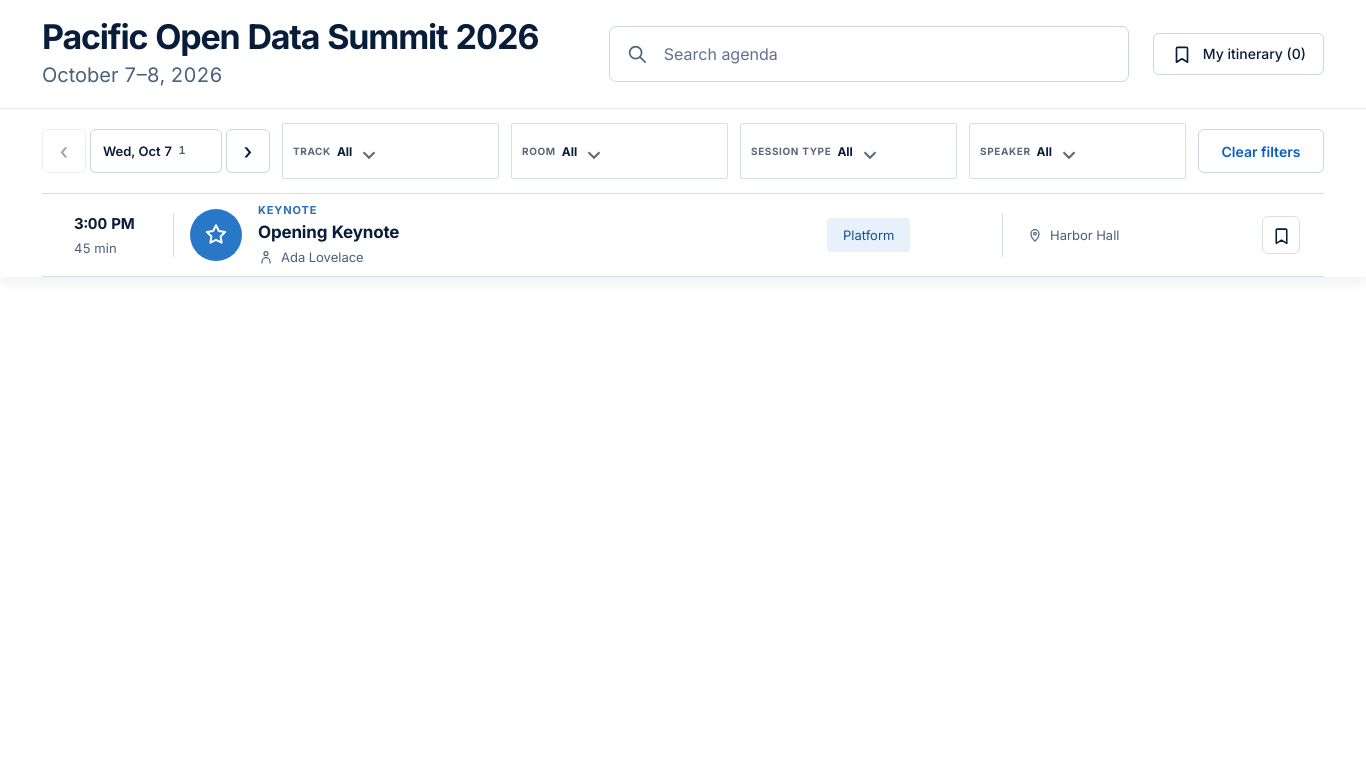
Test: PublicProgramRenderer › opens agenda session details and reserves layout space
Click the button named "Open Opening Keynote session details".
click(683, 235)  # box [42,194,1324,276]
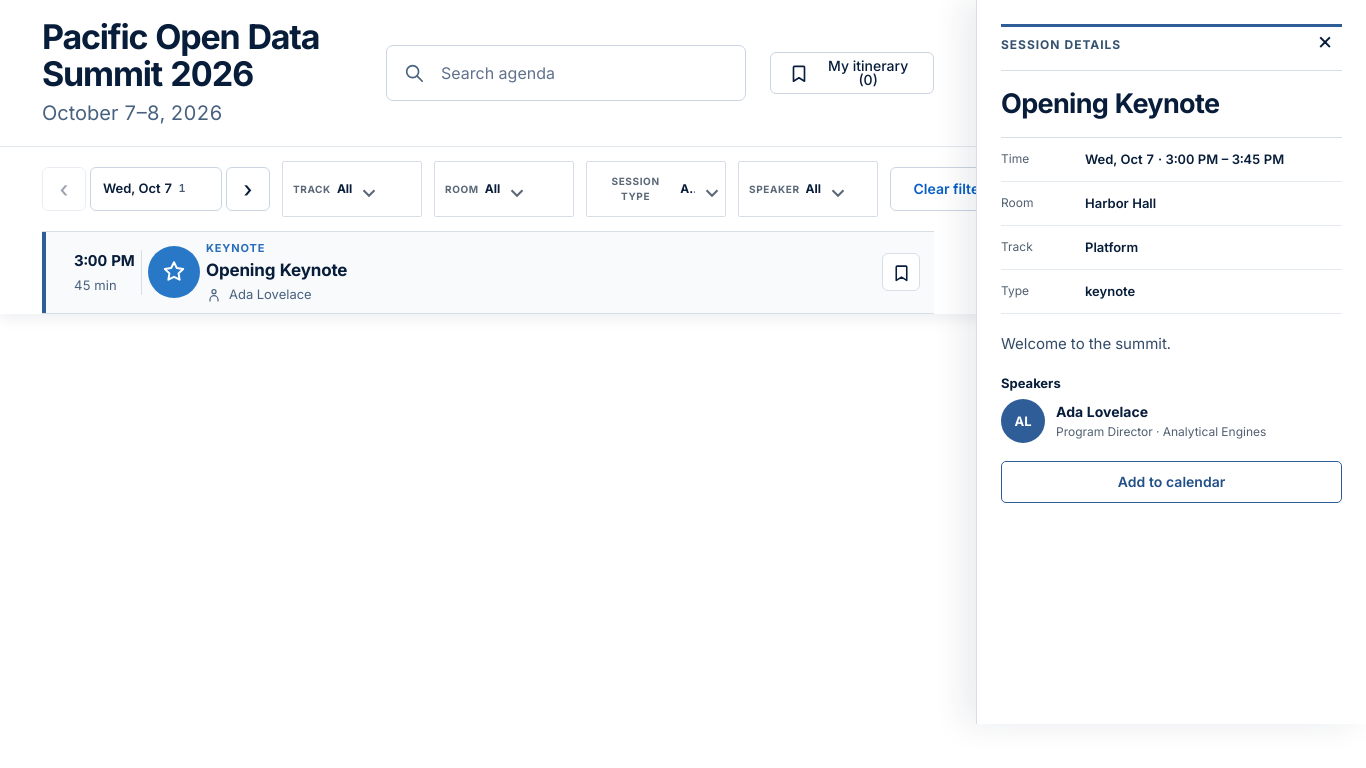
Check: the element named "Session details: Opening Keynote" is shown, box [976,0,1365,724]
